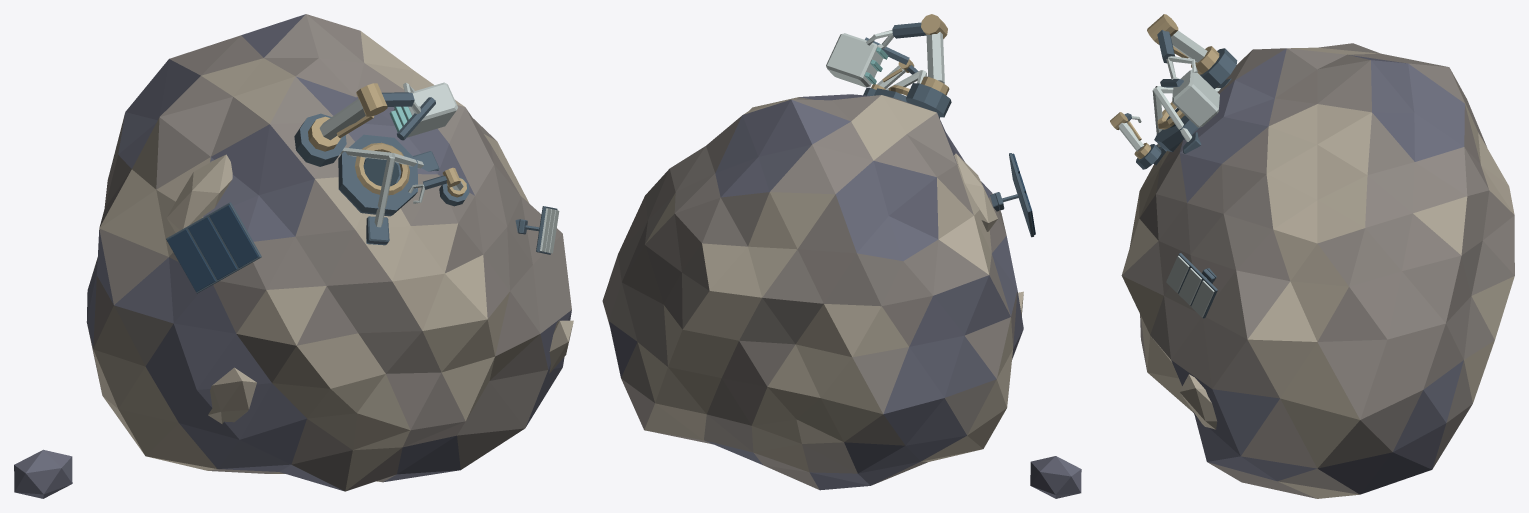
Rendered from asteroids.glb.
3 views of the same model, side by side, from view 1: azimuth 30°, elevation 25°; view 2: azimuth 150°, elevation 25°; view 3: azimuth 270°, elevation 25° (orthographic). The views are drawn at different scales.
Visible parts, largest first — view 1: S9_asteroids • modeled surfaces; view 2: S9_asteroids • modeled surfaces; view 3: S9_asteroids • modeled surfaces.
Boxes of the visible parts, x1,y1,x2,y2 form: S9_asteroids • modeled surfaces: (14,14,573,498); S9_asteroids • modeled surfaces: (602,14,1081,498); S9_asteroids • modeled surfaces: (1110,14,1514,498).
Bounding box in the file's own units: 1.9 × 1.59 × 1.38.
